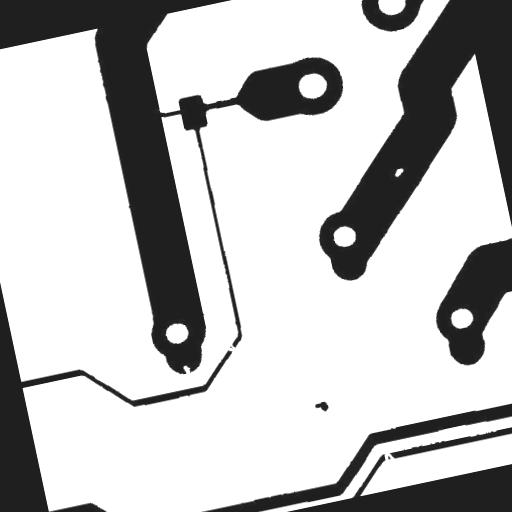copper: (304, 391, 338, 421)
mousebite: (174, 355, 200, 383)
open: (374, 441, 403, 472), (214, 332, 244, 361)
pin-hole: (384, 158, 412, 185)
short: (149, 98, 194, 128)
